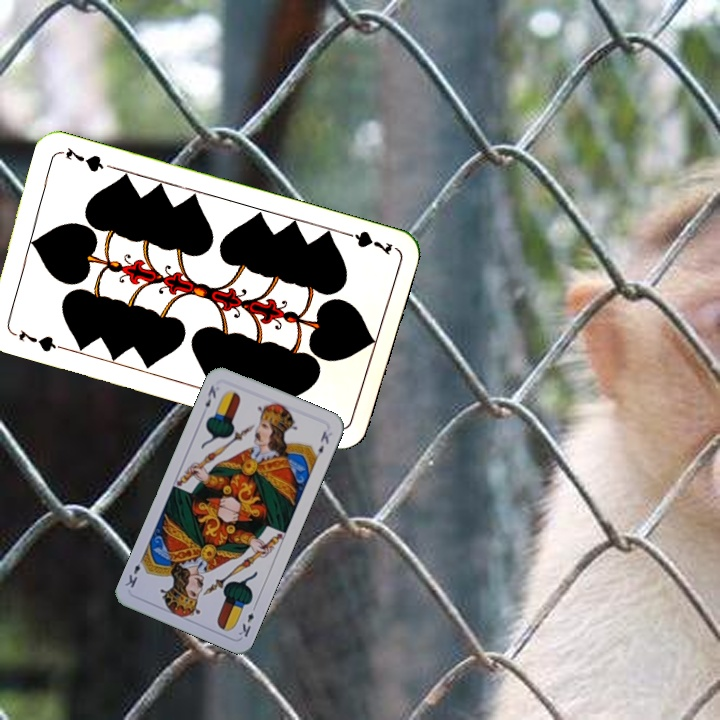EK: (234, 600, 259, 640), (201, 381, 219, 410)
G7: (338, 227, 395, 258), (7, 326, 65, 355)
